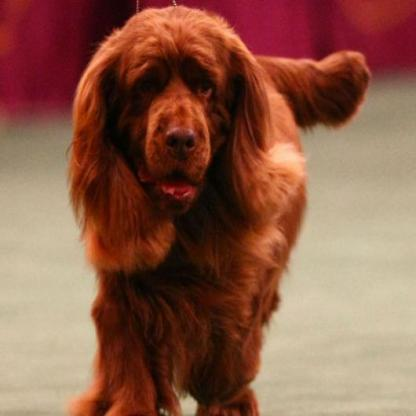Sussex_spaniel: (64, 5, 370, 413)
